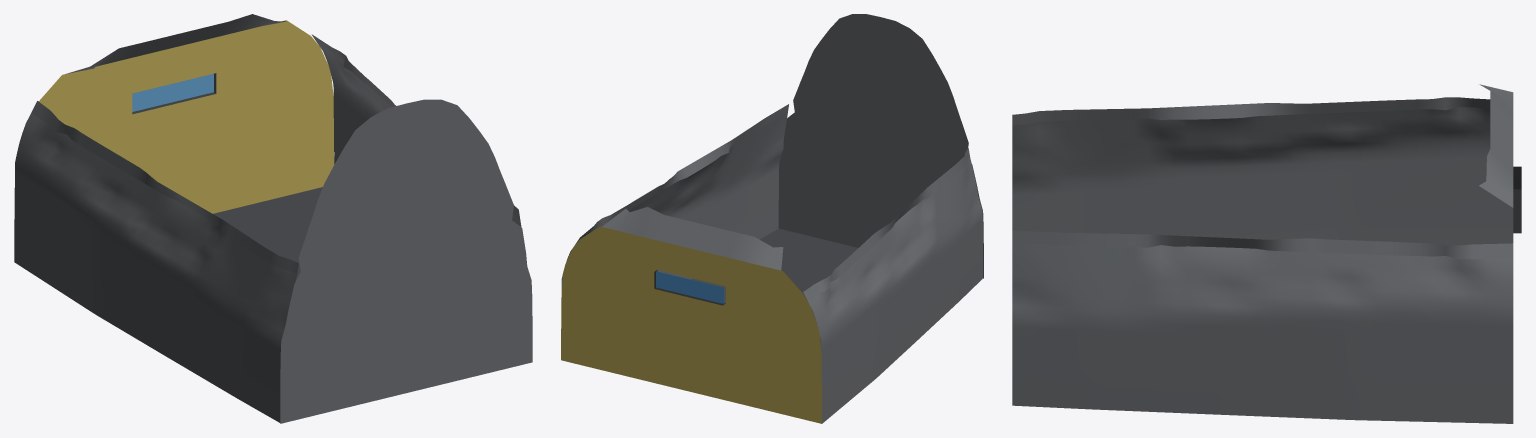
File: cab_cascaron.glb
3 renders of one model, left to right at view 1: azimuth 30°, elevation 25°; view 2: azimuth 150°, elevation 25°; view 3: azimuth 270°, elevation 25°, orthographic. The views are drawn at different scales.
Parts seen in each view (by area): view 1: cascaron_pared, cascaron_cromato, cascaron_piso, cascaron_vidrio, agua_tolva; view 2: cascaron_pared, cascaron_cromato, cascaron_piso, agua_tolva; view 3: cascaron_pared, cascaron_tolva_fondo.
Part boxes in pixels (x1,y1,x2,y2): cascaron_pared: [14, 14, 532, 423]; cascaron_cromato: [39, 20, 334, 213]; cascaron_piso: [213, 187, 322, 280]; cascaron_vidrio: [133, 74, 215, 113]; agua_tolva: [132, 73, 213, 111]; cascaron_pared: [561, 14, 983, 423]; cascaron_cromato: [561, 226, 821, 423]; cascaron_piso: [691, 228, 857, 351]; agua_tolva: [656, 271, 723, 303]; cascaron_pared: [1012, 84, 1513, 423]; cascaron_tolva_fondo: [1513, 166, 1521, 233].
Bounding box in the file's own units: 1.45 × 1.25 × 1.85.
